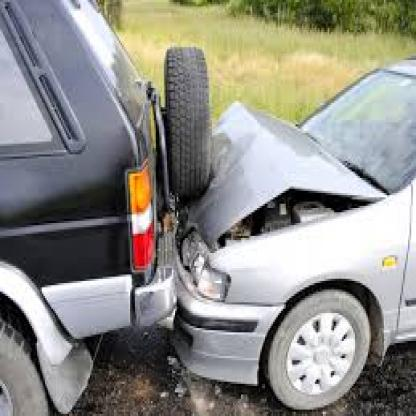accident: (92, 40, 374, 408)
